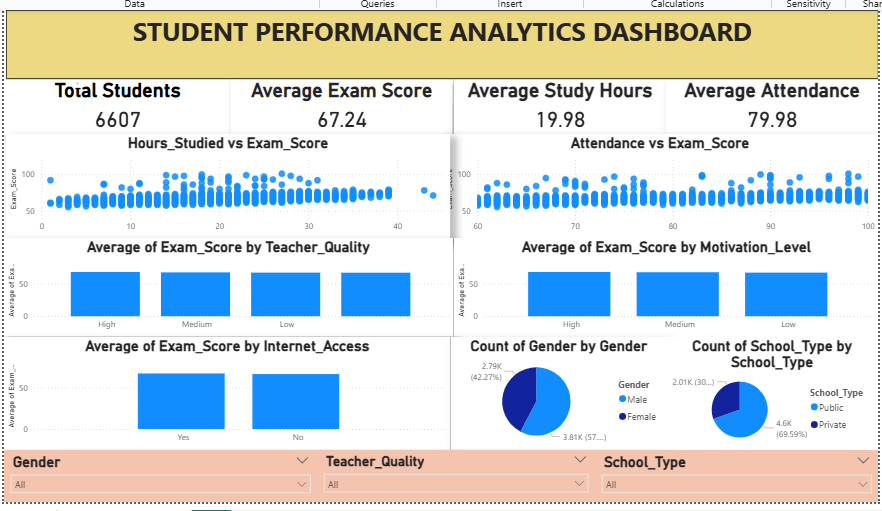

Layout of this report page (visuals, bound fields, positions):
{"tool":"powerbi","page":{"name":"dashboard","canvas":[1280,720],"ordinal":0},"visuals":[{"type":"card","title":"Total Students","fields":{"Values":["CountNonNull(StudentPerformanceFactors.Exam_Score)"]},"box":[0,100.8,332.6,80.6],"z":0},{"type":"card","title":"Average Exam Score","fields":{"Values":["Avg(StudentPerformanceFactors.Exam_Score)"]},"box":[332.6,100.8,324.2,80.6],"z":1000},{"type":"card","title":"Average Study Hours","fields":{"Values":["Avg(StudentPerformanceFactors.Hours_Studied)"]},"box":[658.5,100.8,310.8,80.6],"z":2000},{"type":"card","title":"Average Attendance","fields":{"Values":["Avg(StudentPerformanceFactors.Attendance)"]},"box":[969.2,100.8,310.8,80.6],"z":3000},{"type":"scatterChart","title":"Attendance vs Exam_Score","fields":{"Y":["StudentPerformanceFactors.Exam_Score"],"X":["StudentPerformanceFactors.Attendance"]},"box":[641.7,181.4,638.3,152.9],"z":4000},{"type":"scatterChart","title":"Hours_Studied vs Exam_Score","fields":{"X":["StudentPerformanceFactors.Hours_Studied"],"Y":["StudentPerformanceFactors.Exam_Score"]},"box":[3.4,181.4,650.1,152.9],"z":5000},{"type":"clusteredColumnChart","fields":{"Y":["Avg(StudentPerformanceFactors.Exam_Score)"],"Category":["StudentPerformanceFactors.Teacher_Quality"]},"box":[0,334.3,656.8,144.5],"z":6000},{"type":"clusteredColumnChart","fields":{"Y":["Avg(StudentPerformanceFactors.Exam_Score)"],"Category":["StudentPerformanceFactors.Motivation_Level"]},"box":[658.5,334.3,621.5,144.5],"z":7000},{"type":"clusteredColumnChart","fields":{"Category":["StudentPerformanceFactors.Internet_Access"],"Y":["Avg(StudentPerformanceFactors.Exam_Score)"]},"box":[0,478.7,653.4,164.6],"z":8000},{"type":"pieChart","fields":{"Category":["StudentPerformanceFactors.Gender"],"Y":["CountNonNull(StudentPerformanceFactors.Gender)"]},"box":[653.4,478.7,315.8,164.6],"z":9000},{"type":"pieChart","fields":{"Category":["StudentPerformanceFactors.School_Type"],"Y":["CountNonNull(StudentPerformanceFactors.School_Type)"]},"box":[969.2,478.7,310.8,164.6],"z":10000},{"type":"slicer","fields":{"Values":["StudentPerformanceFactors.Gender"]},"box":[0,643.4,458.6,77.3],"z":11000},{"type":"slicer","fields":{"Values":["StudentPerformanceFactors.School_Type"]},"box":[865.1,643.4,414.9,77.3],"z":12000},{"type":"slicer","fields":{"Values":["StudentPerformanceFactors.Teacher_Quality"]},"box":[458.6,643.4,406.5,77.3],"z":13000},{"type":"textbox","box":[100.8,100.8,13.4,13.4],"z":14000},{"type":"textbox","box":[3.4,0,1276.6,100.8],"z":15000}]}

Visuals, with their boxes on the page's 1280x720 design canvas (x1, y1, x2, y2). These are canvas units, not pixel positions in the 882x511 screenshot, which may show the page scaled, cropped or inside an application window:
"Total Students" card: 0 101 333 181
"Average Exam Score" card: 333 101 657 181
"Average Study Hours" card: 658 101 969 181
"Average Attendance" card: 969 101 1280 181
"Attendance vs Exam_Score" scatterChart: 642 181 1280 334
"Hours_Studied vs Exam_Score" scatterChart: 3 181 654 334
clusteredColumnChart - Avg(StudentPerformanceFactors.Exam_Score) x StudentPerformanceFactors.Teacher_Quality: 0 334 657 479
clusteredColumnChart - Avg(StudentPerformanceFactors.Exam_Score) x StudentPerformanceFactors.Motivation_Level: 658 334 1280 479
clusteredColumnChart - StudentPerformanceFactors.Internet_Access x Avg(StudentPerformanceFactors.Exam_Score): 0 479 653 643
pieChart - StudentPerformanceFactors.Gender x CountNonNull(StudentPerformanceFactors.Gender): 653 479 969 643
pieChart - StudentPerformanceFactors.School_Type x CountNonNull(StudentPerformanceFactors.School_Type): 969 479 1280 643
slicer - StudentPerformanceFactors.Gender: 0 643 459 721
slicer - StudentPerformanceFactors.School_Type: 865 643 1280 721
slicer - StudentPerformanceFactors.Teacher_Quality: 459 643 865 721
textbox: 101 101 114 114
textbox: 3 0 1280 101
